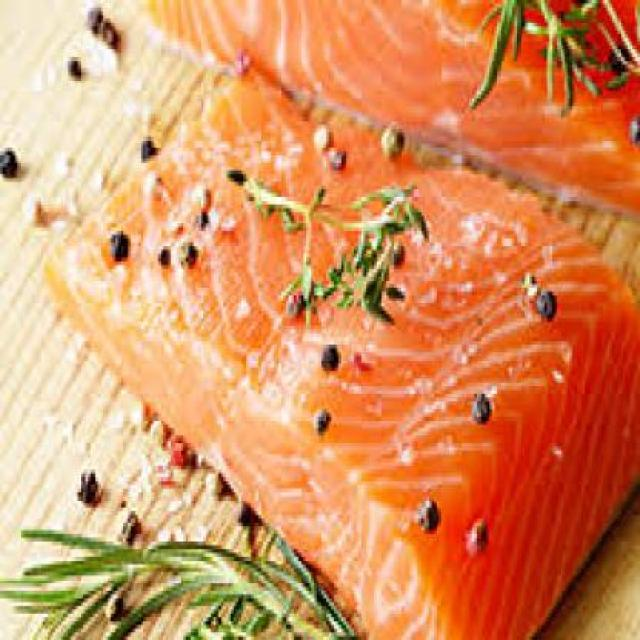salmon: (40, 83, 640, 640), (131, 5, 640, 232)
